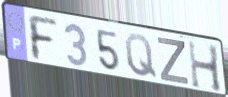3: (63, 21, 89, 68)
5: (95, 28, 123, 72)
F: (25, 12, 60, 63)
H: (186, 38, 225, 95)
Q: (123, 33, 159, 81)
Z: (156, 35, 191, 87)
